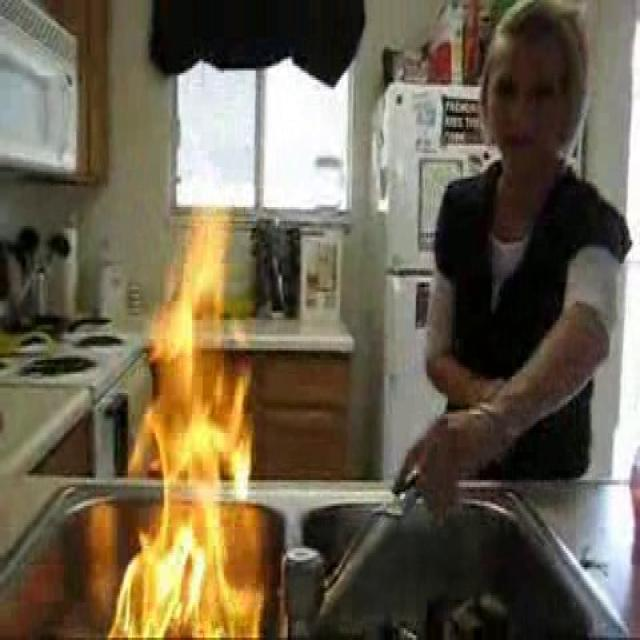fire: (125, 219, 249, 626)
